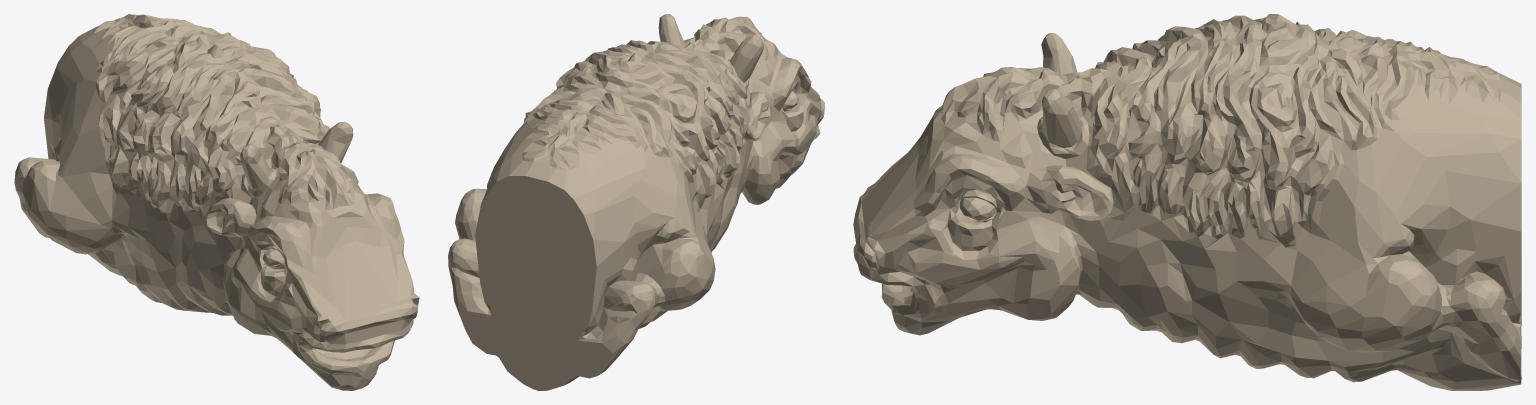
File: Bull_01.glb
The picture shows the model from 3 angles, left to right: view 1: azimuth 30°, elevation 25°; view 2: azimuth 150°, elevation 25°; view 3: azimuth 270°, elevation 25°; orthographic projection. The views are drawn at different scales.
Visible parts, largest first — view 1: Bull_01; view 2: Bull_01; view 3: Bull_01.
Boxes of the visible parts, x1=… form: Bull_01: x1=14, y1=14, x2=419, y2=390; Bull_01: x1=448, y1=14, x2=824, y2=390; Bull_01: x1=853, y1=14, x2=1521, y2=390.
Size of the model in its own units: 1.73 by 1.82 by 3.05.
